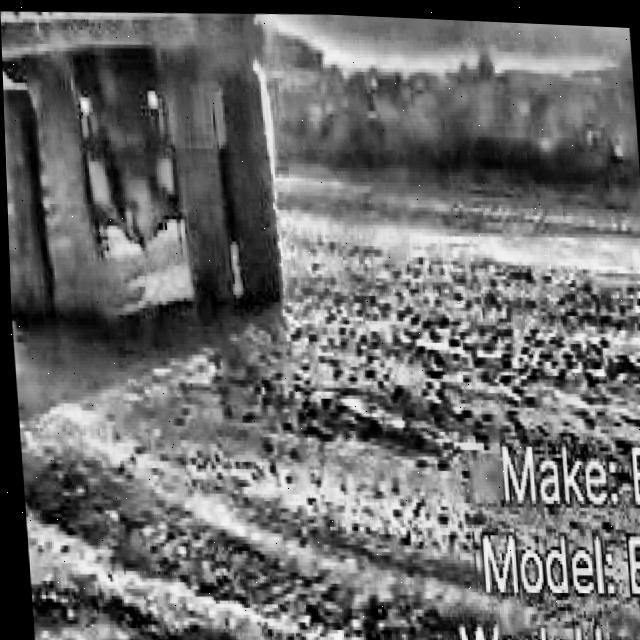dump_truck: (0, 1, 292, 341)
